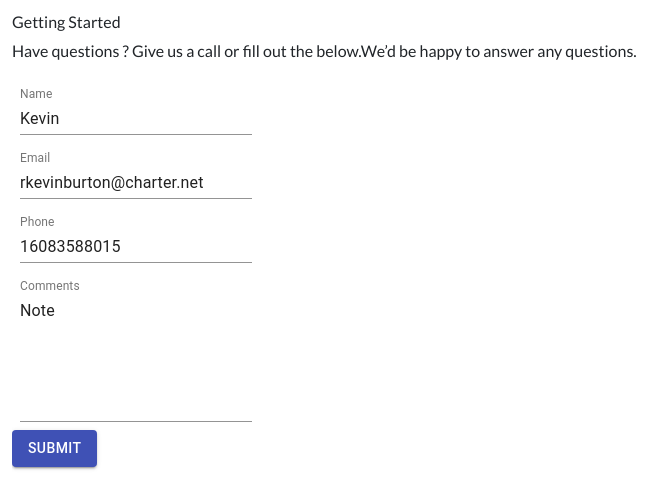
Test case: Start › Enter and submit invalid form values
Expected: the form with test id "getting-started-form" is shown, [12,87,252,467]
Expected: the button with test id "getting-started-form-submit-button" is shown, [12,430,97,467]
Clear the field with test id "name" at (136, 119), box [20,103,252,135]
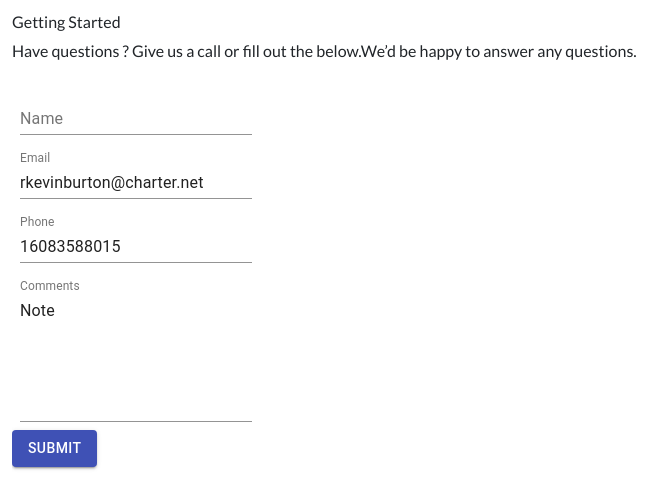
Replace the text in the field with test id "email" with "test" at (136, 183), box [20,167,252,199]
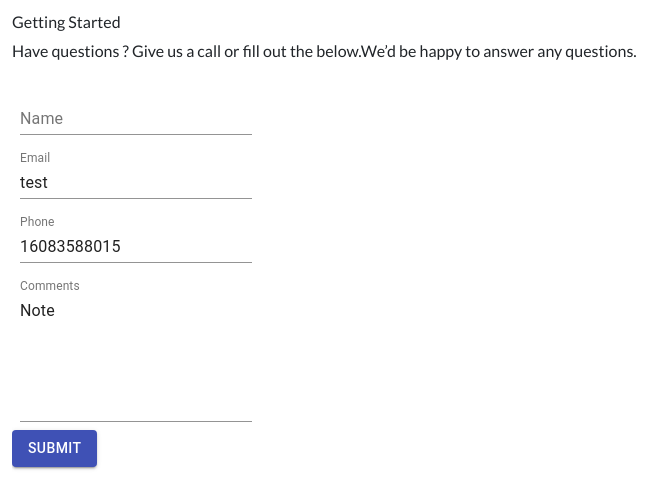
Replace the text in the field with test id "phone" with "1234567890" at (136, 247), box [20,231,252,263]
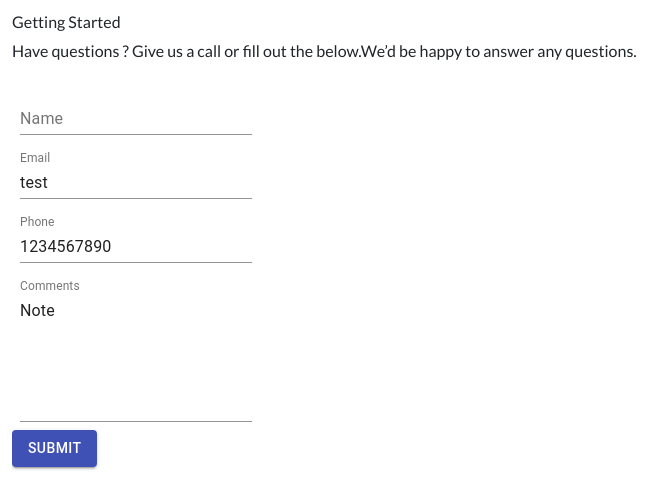
Replace the text in the text box with test id "comments" with "This is a great site" at (136, 358), box [20,301,252,415]
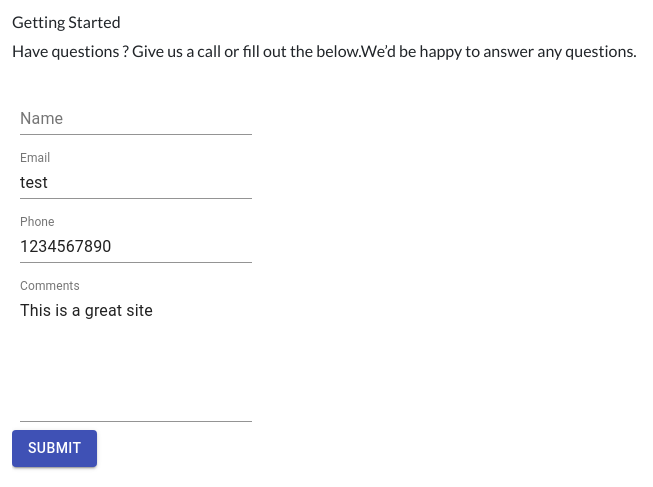
Submit the form with test id "getting-started-form", box [12,103,252,467]
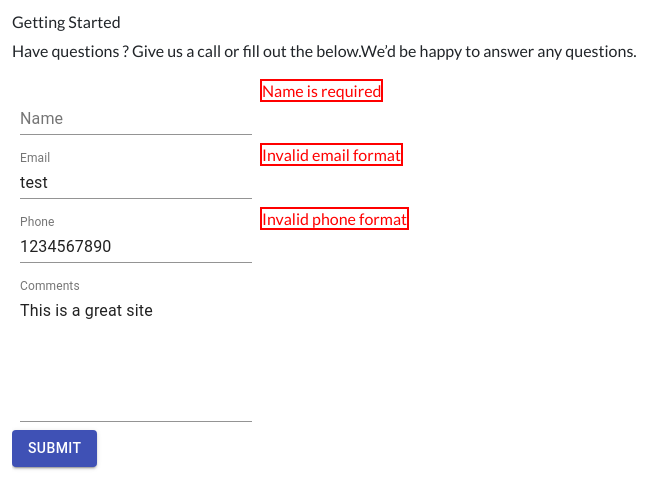
Expected: the number of messages is 3, [260,79,384,102]; [260,143,403,166]; [260,207,409,230]
